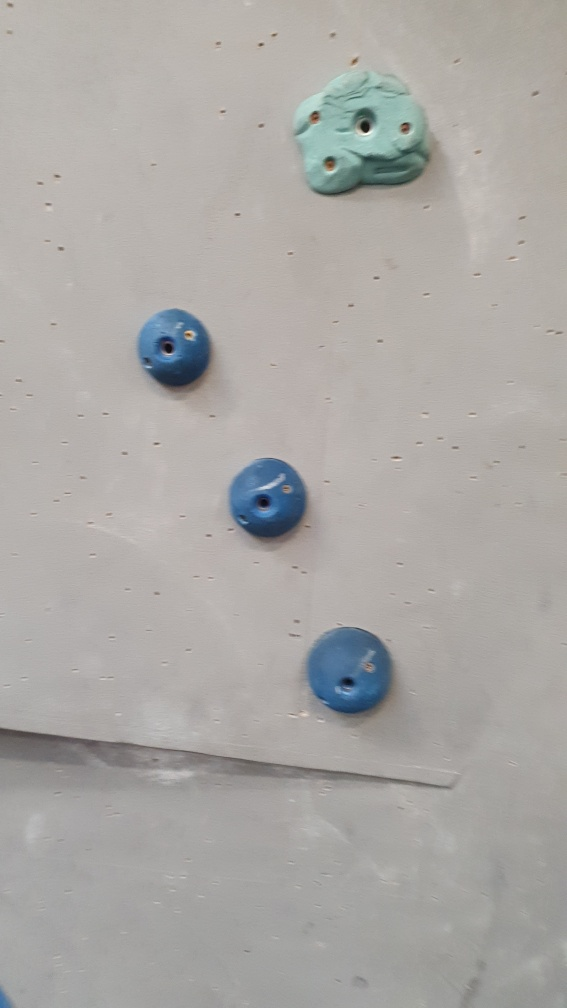Sloper: (300, 623, 404, 716), (223, 453, 317, 547), (136, 301, 215, 393)
